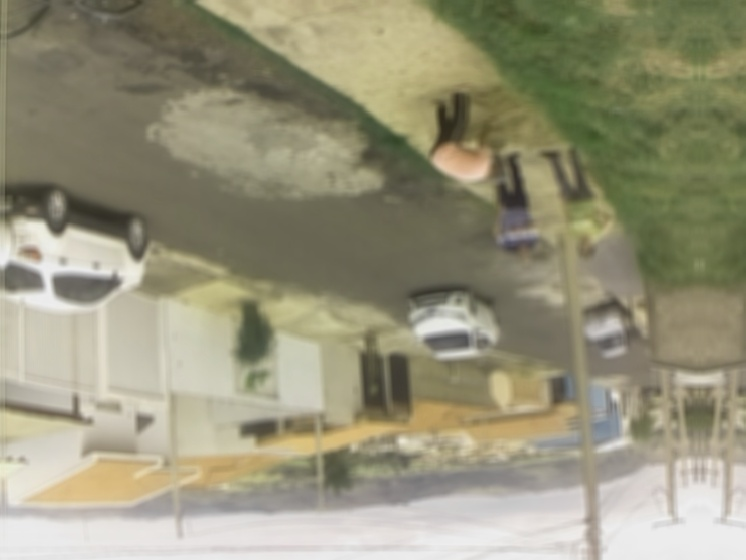person: (537, 147, 613, 262), (428, 83, 508, 184), (490, 154, 537, 268)
